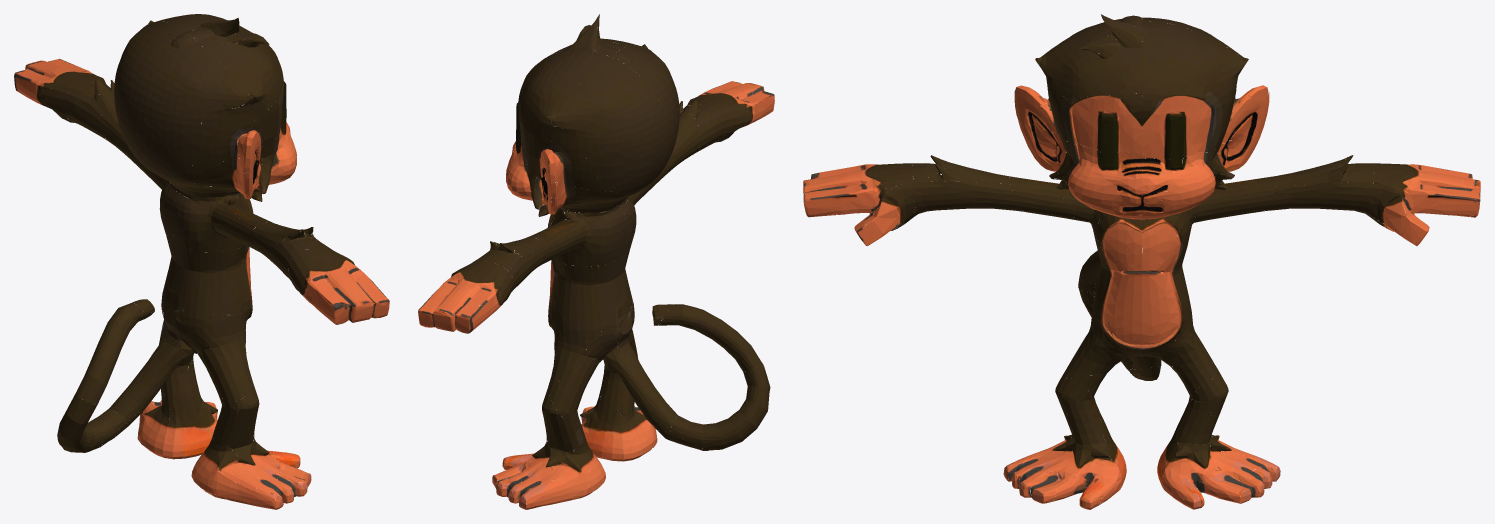
Rendered from macaco.glb.
3 views of the same model, side by side, from view 1: azimuth 30°, elevation 25°; view 2: azimuth 150°, elevation 25°; view 3: azimuth 270°, elevation 25° (orthographic). The views are drawn at different scales.
Visible parts, largest first — view 1: Macaco; view 2: Macaco; view 3: Macaco.
Part boxes in pixels (x1,y1,x2,y2): Macaco: (14,14,389,509); Macaco: (418,14,774,509); Macaco: (803,14,1480,509).
Size of the model in its own units: 0.4273 by 0.7637 by 0.9999.
Materials: 1 (1 with a texture image).
